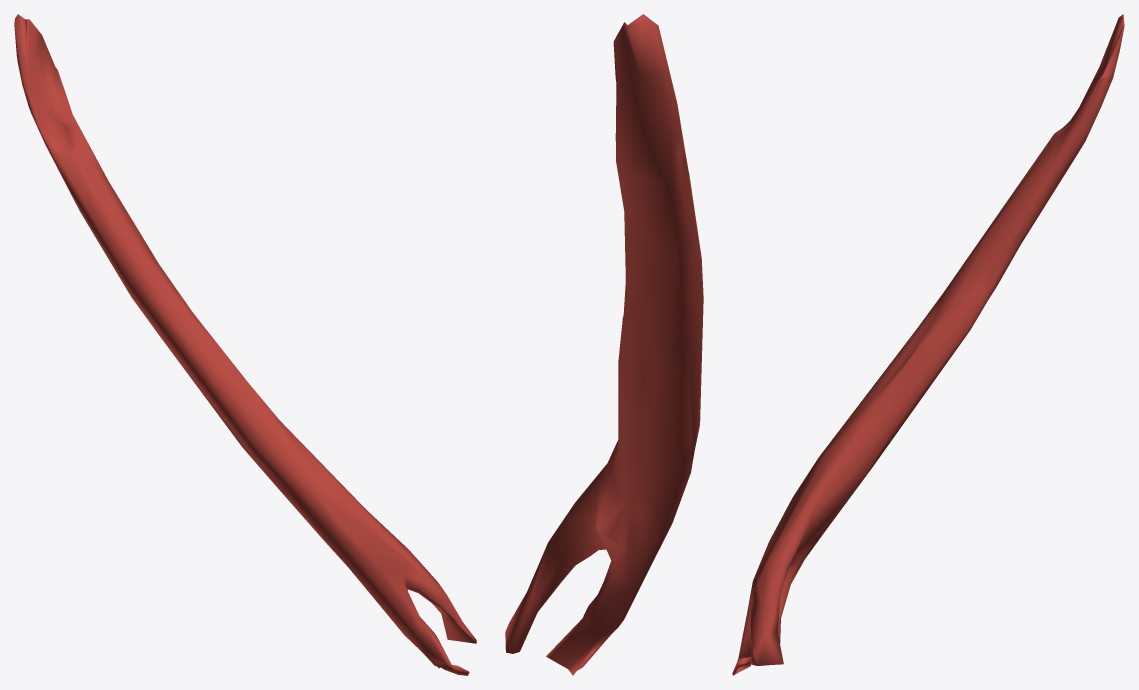
File: musculos-stylohyoid-muscle-r.glb
The picture shows the model from 3 angles, left to right: view 1: azimuth 30°, elevation 25°; view 2: azimuth 150°, elevation 25°; view 3: azimuth 270°, elevation 25°; orthographic projection. The views are drawn at different scales.
Visible parts, largest first — view 1: Stylohyoid muscle.r; view 2: Stylohyoid muscle.r; view 3: Stylohyoid muscle.r.
Boxes of the visible parts, x1,y1,x2,y2 form: Stylohyoid muscle.r: (14, 14, 476, 675); Stylohyoid muscle.r: (505, 14, 703, 675); Stylohyoid muscle.r: (732, 14, 1124, 675).
Size of the model in its own units: 0.0316 by 0.0628 by 0.0408.
